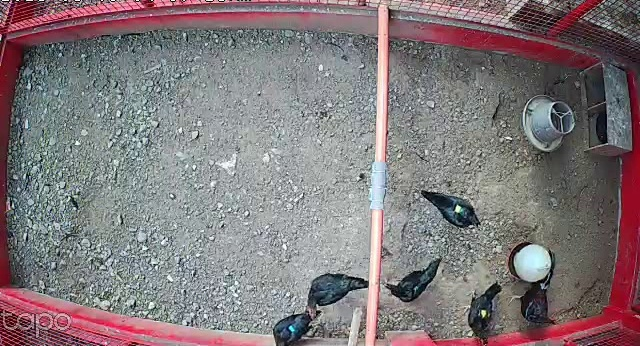Chicken: (304, 263, 377, 320), (415, 185, 488, 232), (384, 250, 443, 301), (459, 282, 502, 344), (272, 306, 322, 346)
Rooster: (505, 250, 560, 332)
Saddle_Color_Blue: (288, 324, 295, 332)
Saddle_Color_Yellow: (481, 308, 491, 318)
Saddle_Color_YellowGreen: (455, 203, 464, 215)
